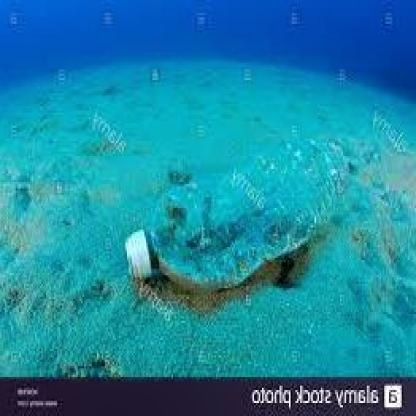pbottle: (117, 130, 348, 299)
